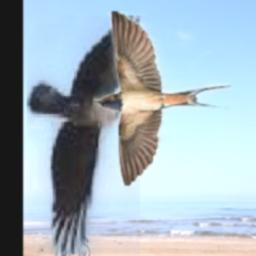Crow: (27, 16, 140, 255)
Swallow: (93, 11, 232, 186)
